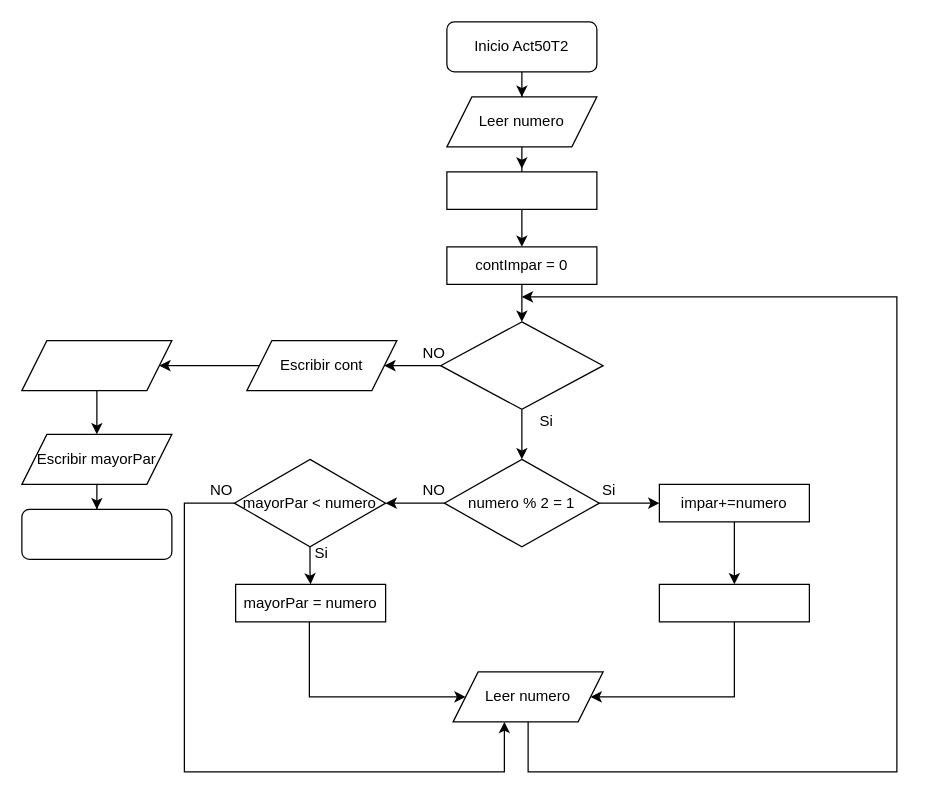
Image size: 929x804. Some labels were removed from this diagram. Each missing label, with the centre of its shape:
"cont = 0" goes at point (521, 190).
"contImpar++" goes at point (733, 602).
"Escribir impar/contImpar" goes at point (96, 365).
"Fin Act50T2" goes at point (96, 533).
"numero >= 0" goes at point (521, 365).
